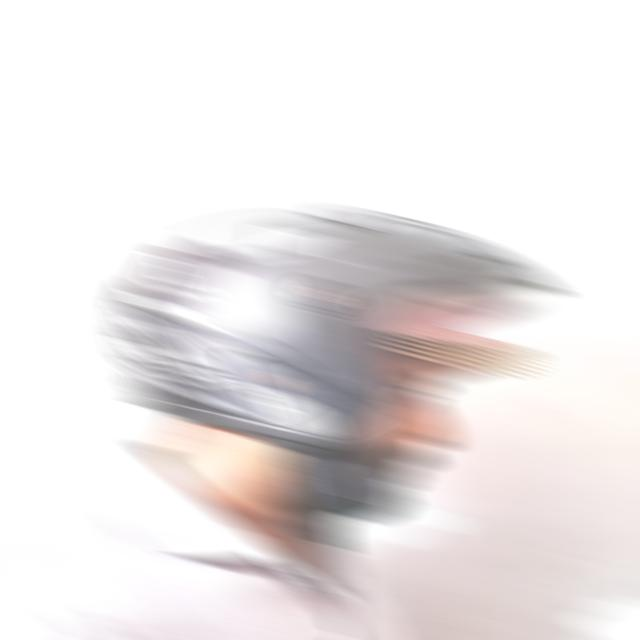With Helmet: (109, 204, 594, 456)
